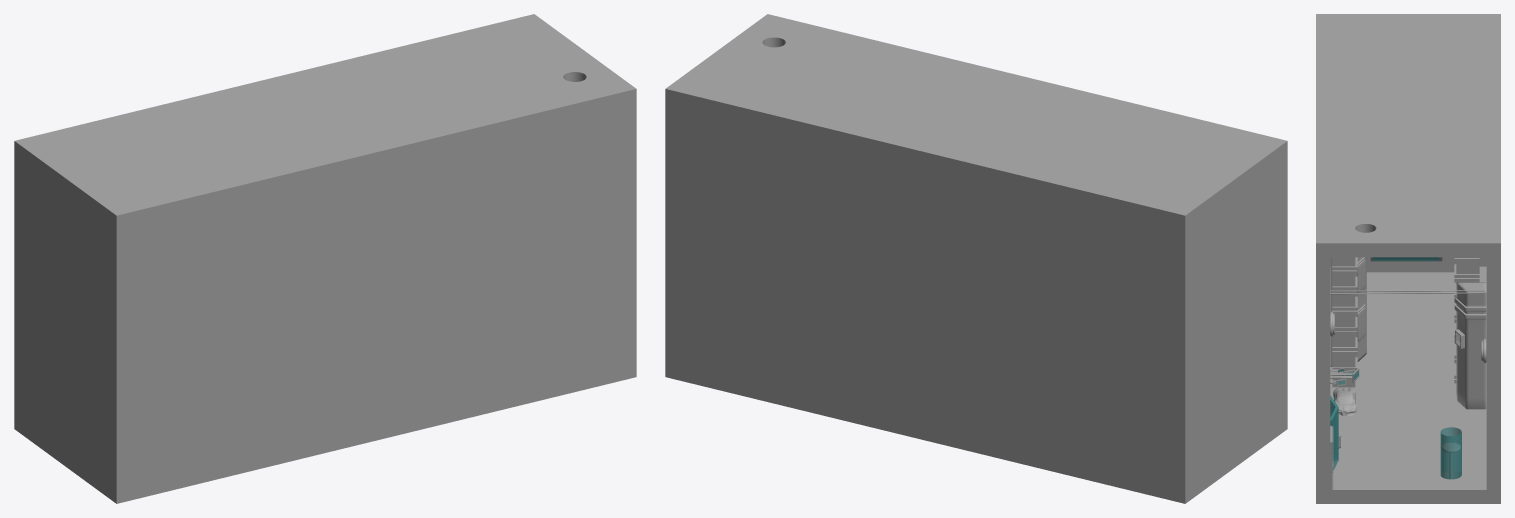
The model's file is WhiteBoxAssets.fbx.
3 renders of one model, left to right at view 1: azimuth 30°, elevation 25°; view 2: azimuth 150°, elevation 25°; view 3: azimuth 270°, elevation 25°, orthographic. The views are drawn at different scales.
Parts seen in each view (by area): view 1: Template; view 2: Template; view 3: Template, Building3, Building5, Building1, pCube10, pCylinder30, Building2, Car, Glass_Panels, Small_Screens, Sign3, polySurface11 (+3 smaller).
Boxes of the visible parts, x1,y1,x2,y2 form: Template: (14,14,636,503); Template: (665,14,1287,503); Template: (1316,14,1500,503); Building3: (1454,282,1486,409); Building5: (1332,257,1357,387); Building1: (1330,257,1366,366); pCube10: (1366,257,1454,272); pCylinder30: (1440,427,1461,479); Building2: (1454,257,1479,394); Car: (1333,387,1356,415); Glass_Panels: (1330,395,1338,472); Small_Screens: (1330,368,1359,385); Sign3: (1370,257,1442,261); polySurface11: (1330,290,1485,291).
Bounding box in the file's own units: 76.74 × 41.35 × 25.99.
